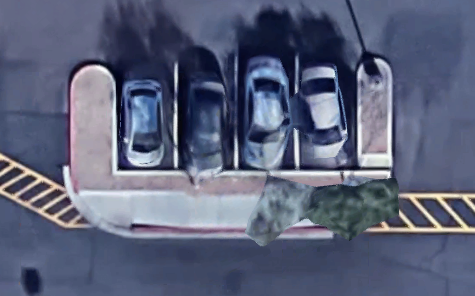Occupied: (297, 53, 360, 172), (235, 53, 297, 173), (114, 53, 176, 172), (176, 53, 235, 173)
